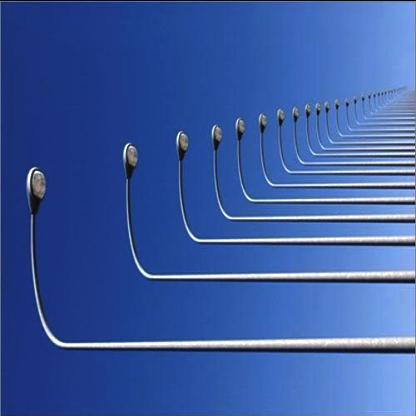off: (198, 102, 388, 147), (19, 151, 76, 227), (156, 112, 213, 186), (96, 126, 155, 187)
